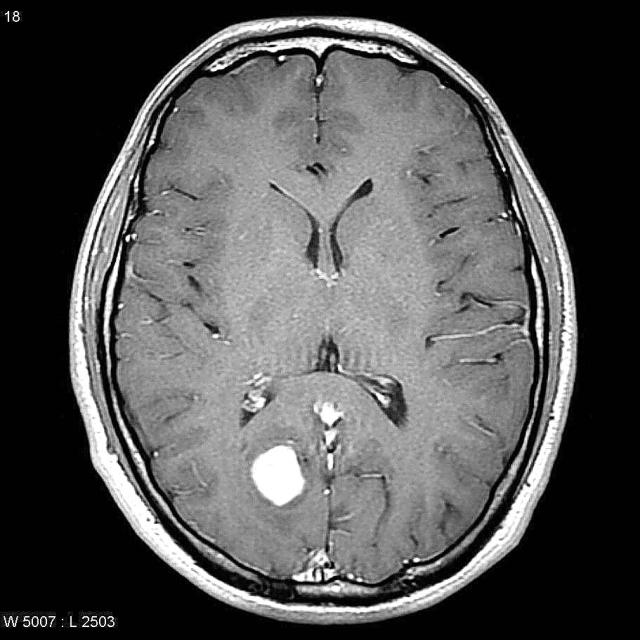Tumor-Cell: (227, 405, 329, 514)
